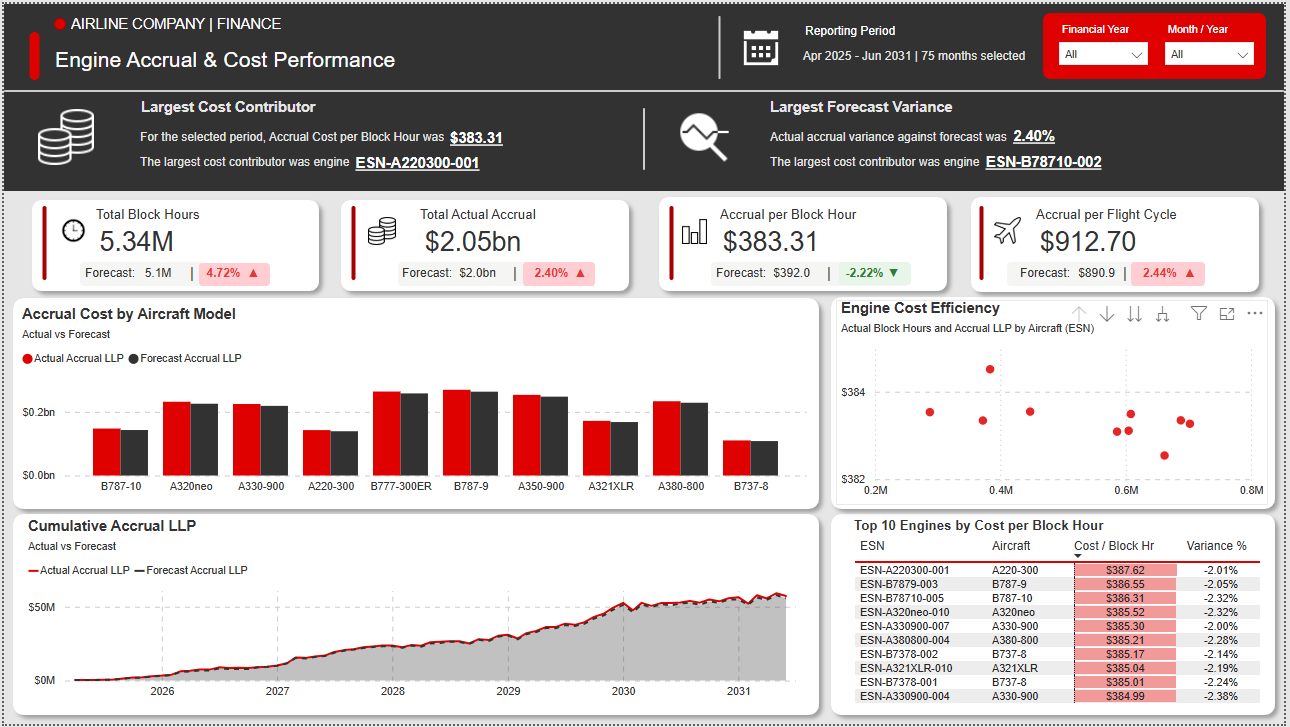

Layout of this report page (visuals, bound fields, positions):
{"tool":"powerbi","page":{"name":"Airline Dashboard","canvas":[1280,720],"ordinal":0},"visuals":[{"type":"shape","box":[818,501,462,219],"z":0},{"type":"shape","box":[0,285,824,229],"z":1000},{"type":"shape","box":[818,284,462,230],"z":2000},{"type":"shape","box":[0,501,824,219],"z":3000},{"type":"shape","box":[0,0,1280.3,187.1],"z":4000},{"type":"shape","box":[1039,9,223,66],"z":5000},{"type":"slicer","fields":{"Values":["Dim_Date.Month/ Year"]},"box":[1151,14,109.1,60.7],"z":6000},{"type":"shape","box":[19,187,305,109.3],"z":7000},{"type":"card","title":"Total Block Hours","fields":{"Values":["Engine Measure Table.Total Actual Block Hours"]},"box":[75.4,216.8,114.2,41.2],"z":8000},{"type":"lineChart","title":"Cumulative Accrual LLP","fields":{"Category":["Dim_Date.Month/ Year"],"Y":["Engine Measure Table.Total Actual_Accrual_PASV_LLP","Engine Measure Table.Total Forecast_Accrual_PASV_LLP"]},"box":[19,514,780,189],"z":9000},{"type":"slicer","fields":{"Values":["Dim_Date.FinancialYear"]},"box":[1045,14,109.1,54.5],"z":10000},{"type":"shape","box":[75.5,258.2,124.5,23.7],"z":11000},{"type":"card","title":"Total Actual Accrual LLP","fields":{"Values":["Engine Measure Table.Total Block Hours Forecast"]},"box":[134,256,40,24],"z":12000},{"type":"textbox","box":[75.8,254.8,67.3,29.3],"z":13000},{"type":"textbox","box":[181,256,27,28],"z":14000},{"type":"clusteredColumnChart","title":"Accrual Cost by Aircraft Model","fields":{"Category":["Dim_Engine.Aircraft Hierarchy.Aircraft","Dim_Engine.Aircraft Hierarchy.ESN"],"Y":["Engine Measure Table.Total Actual_Accrual_PASV_LLP","Engine Measure Table.Total Forecast_Accrual_PASV_LLP"]},"box":[13,302,795,196],"z":15000},{"type":"scatterChart","title":"Engine Cost Efficiency","fields":{"Category":["Dim_Engine.Aircraft Hierarchy.Aircraft","Dim_Engine.Aircraft Hierarchy.ESN"],"X":["Engine Measure Table.Total Actual Block Hours"],"Y":["Engine Measure Table.Actual Accrual LLP per Block Hours"]},"box":[832,296,432,205],"z":16000},{"type":"textbox","box":[62,7,250,37],"z":17000},{"type":"shape","box":[50,14.4,12,12],"z":18000},{"type":"shape","box":[19,201.8,43.2,74.1],"z":19000},{"type":"image","box":[46.8,207.8,45.3,37],"z":20000},{"type":"textbox","box":[87.1,196.8,145.1,40.3],"z":21000},{"type":"shape","box":[328,187,306.3,109.3],"z":22000},{"type":"card","title":"Total Block Hours","fields":{"Values":["Engine Measure Table.Total Actual_Accrual_PASV_LLP"]},"box":[412.2,216.8,114.2,41.2],"z":23000},{"type":"shape","box":[393.5,257.8,197.6,23.7],"z":24000},{"type":"card","title":"Total Actual Accrual LLP","fields":{"Values":["Engine Measure Table.Total Forecast_Accrual_PASV_LLP"]},"box":[443,256,61,24],"z":25000},{"type":"textbox","box":[393.2,255.1,67.3,29.3],"z":26000},{"type":"textbox","box":[504,256,27,28],"z":27000},{"type":"shape","box":[328,202.2,43.2,74.1],"z":28000},{"type":"image","box":[354.9,208.5,45.3,37],"z":29000},{"type":"textbox","box":[411.3,196.8,144.1,40.1],"z":30000},{"type":"shape","box":[646,184,306.1,112.2],"z":31000},{"type":"card","title":"Total Block Hours","fields":{"Values":["Engine Measure Table.Actual Accrual LLP per Block Hours"]},"box":[709.5,216.6,114.2,41.2],"z":32000},{"type":"shape","box":[706.9,258.1,198,24],"z":33000},{"type":"card","title":"Total Actual Accrual LLP","fields":{"Values":["Engine Measure Table.Forecast LLP per Block Hours"]},"box":[757,256,61,24],"z":34000},{"type":"textbox","box":[706.6,254.6,67.3,29.3],"z":35000},{"type":"textbox","box":[818,256,27,28],"z":36000},{"type":"shape","box":[646,201.9,43,74],"z":37000},{"type":"image","box":[667.5,207.6,45.3,37],"z":38000},{"type":"textbox","box":[711.3,196.6,193.8,40.6],"z":39000},{"type":"shape","box":[958,184,306.1,112.8],"z":40000},{"type":"card","title":"Total Block Hours","fields":{"Values":["Engine Measure Table.Actual Accrual LLP pre Flight Cycles"]},"box":[1026.8,217.1,114.2,41.2],"z":41000},{"type":"shape","box":[1003.1,258.1,197.6,23.7],"z":42000},{"type":"card","title":"Total Actual Accrual LLP","fields":{"Values":["Engine Measure Table.Forecast Accrual LLP per Flight Cycles"]},"box":[1062,256,61,25],"z":43000},{"type":"textbox","box":[1011.5,255,67.3,29.3],"z":44000},{"type":"textbox","box":[1114,256,27,29],"z":45000},{"type":"shape","box":[956.1,202.1,43.2,74.1],"z":46000},{"type":"image","box":[980.8,208.4,45.3,37],"z":47000},{"type":"shape","box":[195,259,71,23],"z":48000},{"type":"textbox","box":[1026.8,197.1,208.2,40],"z":49000},{"type":"card","title":"Total Actual Accrual LLP","fields":{"Values":["Engine Measure Table.Block Hours Variance 2%"]},"box":[197,256,45,24],"z":50000},{"type":"card","title":"Total Actual Accrual LLP","fields":{"Values":["Engine Measure Table.Cost Block Hours Variance Indicator"]},"box":[236,256,27,24],"z":51000},{"type":"shape","box":[518.9,257.8,71.9,23.8],"z":52000},{"type":"card","title":"Total Actual Accrual LLP","fields":{"Values":["Engine Measure Table.Accrual-Forecast LLP Variance %"]},"box":[518,256,59,24],"z":53000},{"type":"card","title":"Total Actual Accrual LLP","fields":{"Values":["Engine Measure Table.Cost Accrual-Forecast LLP Variance Indicator"]},"box":[563,256,27,24],"z":54000},{"type":"shape","box":[1127.4,258.1,73.8,23.8],"z":55000},{"type":"shape","box":[835,258,72,23],"z":56000},{"type":"card","title":"Total Actual Accrual LLP","fields":{"Values":["Engine Measure Table.Accrual-Forecast LLP per Block Hours Variance %"]},"box":[831,256,59,24],"z":57000},{"type":"card","title":"Total Actual Accrual LLP","fields":{"Values":["Engine Measure Table.Cost Accrual-Forecast per Block Hrs Variance Indicator"]},"box":[876,256,27,24],"z":58000},{"type":"card","title":"Total Actual Accrual LLP","fields":{"Values":["Engine Measure Table.Accrual-Forecast LLP per Flight Cycles Variance %"]},"box":[1127,256,58,25],"z":59000},{"type":"card","title":"Total Actual Accrual LLP","fields":{"Values":["Engine Measure Table.Cost Accrual-Forecast per Flight Cycles Variance Indicator"]},"box":[1173,256,26,25],"z":60000},{"type":"shape","box":[0,70,1280,34],"z":61000},{"type":"shape","box":[8.9,27.8,43.3,47.8],"z":62000},{"type":"textbox","box":[46,39,584,46],"z":63000},{"type":"shape","box":[694,12,43,63],"z":64000},{"type":"textbox","box":[132,90,300,29],"z":65000},{"type":"textbox","box":[130.7,119.1,319.7,28.7],"z":66000},{"type":"card","fields":{"Values":["Engine Measure Table.Actual Accrual LLP per Block Hours"]},"box":[420,112.8,104.8,45.7],"z":67000},{"type":"textbox","box":[130.7,144.2,231,29.6],"z":68000},{"type":"card","fields":{"Values":["Engine Measure Table.Top Cost Engine"]},"box":[332.2,137.9,163,45.7],"z":69000},{"type":"textbox","box":[761,90,300,29],"z":70000},{"type":"textbox","box":[761,119,251,29],"z":71000},{"type":"card","fields":{"Values":["Engine Measure Table.Accrual-Forecast LLP Variance %"]},"box":[987.8,111,84.2,45.7],"z":72000},{"type":"textbox","box":[761,144,228,29],"z":73000},{"type":"card","fields":{"Values":["Engine Measure Table.Top Variance Engine"]},"box":[958.2,137,163,45.7],"z":74000},{"type":"shape","box":[618,104,44,62.4],"z":75000},{"type":"image","box":[660.3,101.5,80,65],"z":76000},{"type":"image","box":[22,100.3,80,65.6],"z":77000},{"type":"textbox","box":[796,13,114.4,28.9],"z":80000},{"type":"image","box":[727,16,59,56],"z":82000},{"type":"tableEx","title":"Top 10 Engines by Cost per Block Hour","fields":{"Values":["Dim_Engine.ESN","Dim_Engine.Aircraft","Engine Measure Table.Actual Accrual LLP per Block Hours","Engine Measure Table.Accrual-Forecast LLP per Block Hours Variance %"]},"box":[845,514,419,191],"z":83000},{"type":"card","fields":{"Values":["Engine Measure Table.Reporting Period complete"]},"box":[786,30,248,48],"z":83001}]}

Visuals, with their boxes in screenshot pixels (x1, y1, x2, y2), scaled from the page's 1280x720 canvas onto the 1290x727 screenshot:
shape: 824,506,1289,726
shape: 0,288,830,519
shape: 824,287,1289,519
shape: 0,506,830,726
shape: 0,0,1289,189
shape: 1047,9,1272,76
slicer - Dim_Date.Month/ Year: 1160,14,1270,75
shape: 19,189,327,299
"Total Block Hours" card: 76,219,191,261
"Cumulative Accrual LLP" lineChart: 19,519,805,710
slicer - Dim_Date.FinancialYear: 1053,14,1163,69
shape: 76,261,202,285
"Total Actual Accrual LLP" card: 135,258,175,283
textbox: 76,257,144,287
textbox: 182,258,210,287
"Accrual Cost by Aircraft Model" clusteredColumnChart: 13,305,814,503
"Engine Cost Efficiency" scatterChart: 838,299,1274,506
textbox: 62,7,314,44
shape: 50,15,62,27
shape: 19,204,63,279
image: 47,210,93,247
textbox: 88,199,234,239
shape: 331,189,639,299
"Total Block Hours" card: 415,219,531,261
shape: 397,260,596,284
"Total Actual Accrual LLP" card: 446,258,508,283
textbox: 396,258,464,287
textbox: 508,258,535,287
shape: 331,204,374,279
image: 358,211,403,248
textbox: 415,199,560,239
shape: 651,186,960,299
"Total Block Hours" card: 715,219,830,260
shape: 712,261,912,285
"Total Actual Accrual LLP" card: 763,258,824,283
textbox: 712,257,780,287
textbox: 824,258,852,287
shape: 651,204,694,279
image: 673,210,718,247
textbox: 717,199,912,240
shape: 965,186,1274,300
"Total Block Hours" card: 1035,219,1150,261
shape: 1011,261,1210,285
"Total Actual Accrual LLP" card: 1070,258,1132,284
textbox: 1019,257,1087,287
textbox: 1123,258,1150,288
shape: 964,204,1007,279
image: 988,210,1034,248
shape: 197,262,268,285
textbox: 1035,199,1245,239
"Total Actual Accrual LLP" card: 199,258,244,283
"Total Actual Accrual LLP" card: 238,258,265,283
shape: 523,260,595,284
"Total Actual Accrual LLP" card: 522,258,582,283
"Total Actual Accrual LLP" card: 567,258,595,283
shape: 1136,261,1211,285
shape: 842,261,914,284
"Total Actual Accrual LLP" card: 837,258,897,283
"Total Actual Accrual LLP" card: 883,258,910,283
"Total Actual Accrual LLP" card: 1136,258,1194,284
"Total Actual Accrual LLP" card: 1182,258,1208,284
shape: 0,71,1289,105
shape: 9,28,53,76
textbox: 46,39,635,86
shape: 699,12,743,76
textbox: 133,91,435,120
textbox: 132,120,454,149
card - Engine Measure Table.Actual Accrual LLP per Block Hours: 423,114,529,160
textbox: 132,146,365,175
card - Engine Measure Table.Top Cost Engine: 335,139,499,185
textbox: 767,91,1069,120
textbox: 767,120,1020,149
card - Engine Measure Table.Accrual-Forecast LLP Variance %: 996,112,1080,158
textbox: 767,145,997,175
card - Engine Measure Table.Top Variance Engine: 966,138,1130,184
shape: 623,105,667,168
image: 665,102,746,168
image: 22,101,103,168
textbox: 802,13,918,42
image: 733,16,792,73
"Top 10 Engines by Cost per Block Hour" tableEx: 852,519,1274,712
card - Engine Measure Table.Reporting Period complete: 792,30,1042,79
